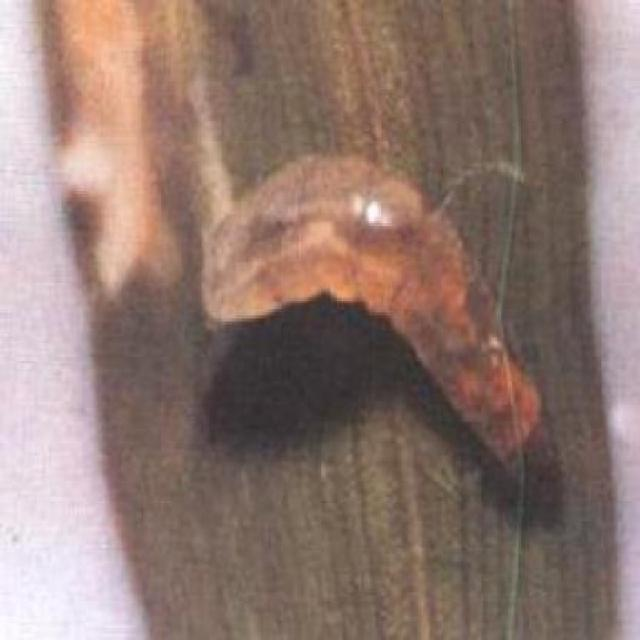whorl-maggot: (194, 140, 549, 466)
